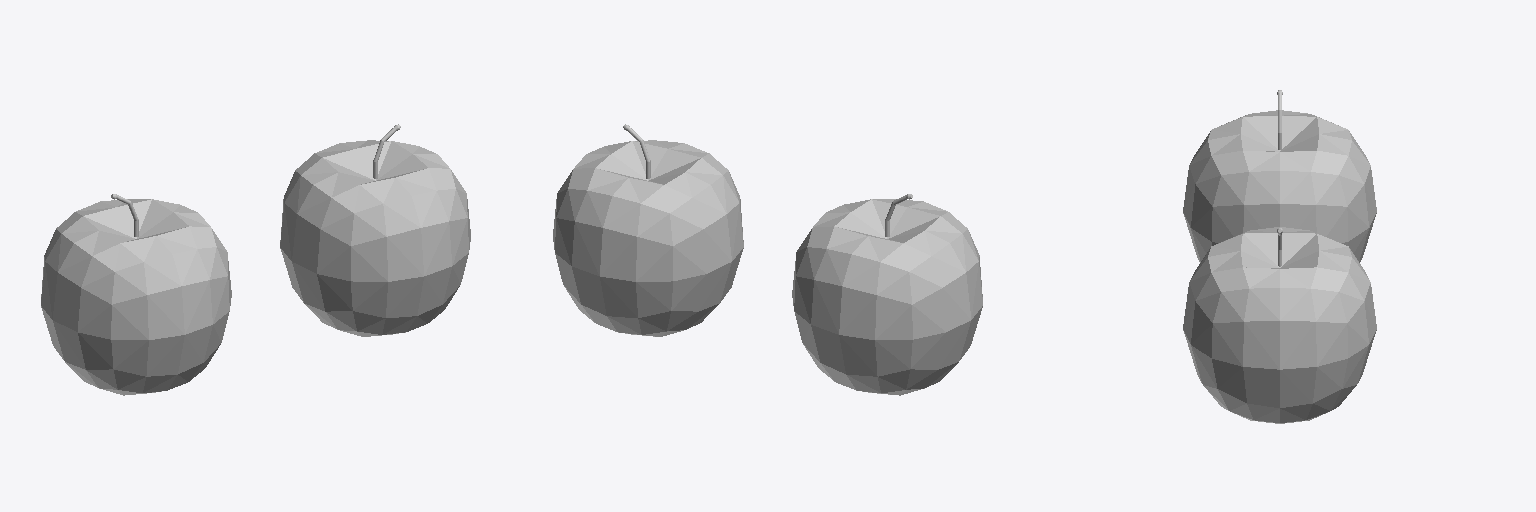
The model's file is twoapples.obj.
The picture shows the model from 3 angles: view 1: azimuth 30°, elevation 25°; view 2: azimuth 150°, elevation 25°; view 3: azimuth 270°, elevation 25°; orthographic projection.
Parts seen in each view (by area): view 1: Cube.009, Cube.007; view 2: Cube.009, Cube.007; view 3: Cube.009, Cube.007.
Boxes of the visible parts, <box> form: Cube.009: <box>280,124,470,336</box>; Cube.007: <box>41,194,231,395</box>; Cube.009: <box>553,124,743,336</box>; Cube.007: <box>792,194,982,395</box>; Cube.009: <box>1183,227,1376,423</box>; Cube.007: <box>1183,90,1376,262</box>.
Bounding box in the file's own units: 7.72 × 3.5 × 3.19.